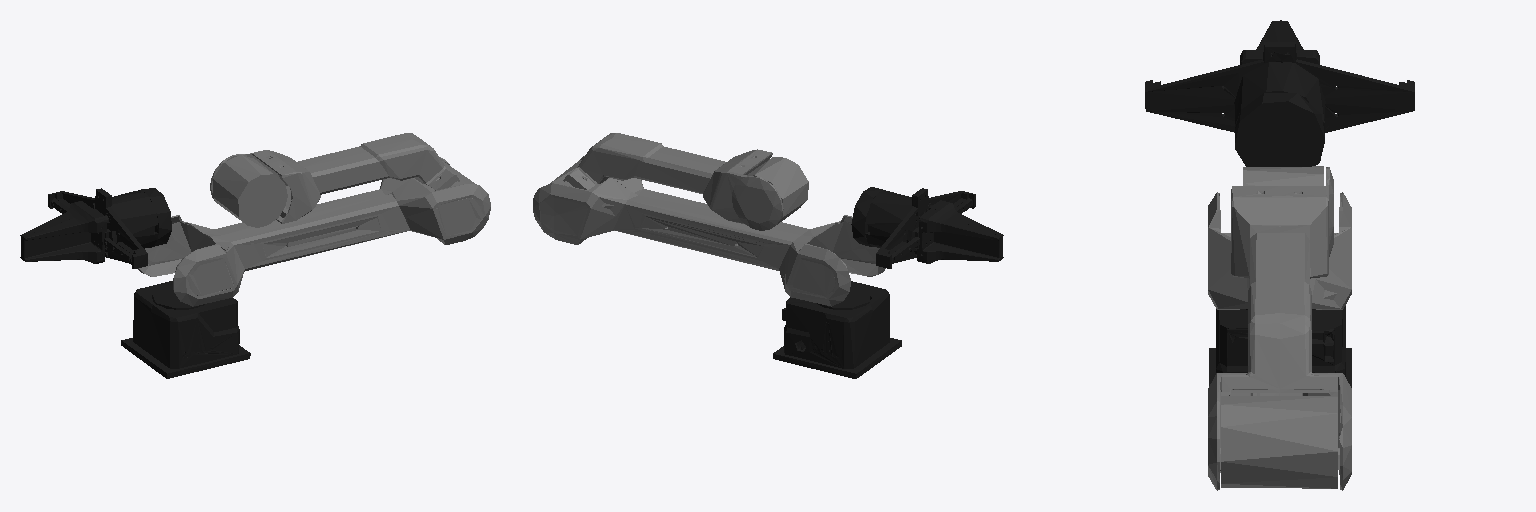
The robot description file, URDF, robot "fangzhenjixiebi":
<?xml version="1.0" encoding="utf-8"?>
<robot name="fangzhenjixiebi">

  <material name="white">
    <color rgba="0.5 0.5 0.5 1"/>
  </material>
  <material name="black">
    <color rgba="0.15 0.15 0.15 1"/>
  </material>

  <link name="base_link">
    <visual>
      <origin xyz="0 0 0" rpy="0 0 0"/>
      <geometry>
        <mesh filename="../meshes/base_link.STL"/>
      </geometry>
      <material name="black"/>
    </visual>
    <collision>
      <origin xyz="0 0 0" rpy="0 0 0"/>
      <geometry>
        <mesh filename="../meshes/base_link.STL"/>
      </geometry>
    </collision>
  </link>

  <joint name="1joint" type="revolute">
    <origin xyz="0 0 0" rpy="0 0 0"/>
    <parent link="base_link"/>
    <child link="1_Link"/>
    <axis xyz="0 0 1"/>
    <limit lower="-2.967" upper="2.967" effort="9" velocity="10.0"/>
  </joint>

  <link name="1_Link">
    <inertial>
      <origin xyz="0 0.000005 0.0590654" rpy="1.5708 0 0"/>
      <mass value="0.240435"/>
      <inertia ixx="0.000186308" ixy="0" ixz="0" iyy="0.000164031" iyz="0" izz="0.000128092"/>
    </inertial>
    <visual>
      <origin xyz="0 0 0" rpy="0 0 0"/>
      <geometry>
        <mesh filename="../meshes/1_Link.STL"/>
      </geometry>
      <material name="black"/>
    </visual>
    <collision>
      <origin xyz="0 0 0" rpy="0 0 0"/>
      <geometry>
        <mesh filename="../meshes/1_Link.STL"/>
      </geometry>
    </collision>
  </link>

  <joint name="2joint" type="revolute">
    <origin xyz="0 0 0.065224" rpy="1.5708 0 0"/>
    <parent link="1_Link"/>
    <child link="2_Link"/>
    <axis xyz="0 0 1"/>
    <limit lower="0" upper="3.14" effort="9" velocity="10.0"/>
  </joint>

  <link name="2_Link">
    <inertial>
      <origin xyz="0.251877 -0.0121583 0.000522957" rpy="1.57 0 1.57"/>
      <mass value="0.27896"/>
      <inertia ixx="0.00101012" ixy="0" ixz="0" iyy="0.000968578" iyz="0" izz="0.00016357"/>
    </inertial>
    <visual>
      <origin xyz="0 0.012094 0" rpy="0 0 0"/>
      <geometry>
        <mesh filename="../meshes/2_Link.STL"/>
      </geometry>
      <material name="white"/>
    </visual>
    <collision>
      <origin xyz="0 0.012094 0" rpy="0 0 0"/>
      <geometry>
        <mesh filename="../meshes/2_Link.STL"/>
      </geometry>
    </collision>
  </link>

  <joint name="3joint" type="revolute">
    <origin xyz="0.3 0 0.0005" rpy="0 0 1.5708"/>
    <parent link="2_Link"/>
    <child link="3_Link"/>
    <axis xyz="0 0 -1"/>
    <limit lower="0" upper="3.14" effort="9" velocity="10.0"/>
  </joint>

  <link name="3_Link">
    <inertial>
      <origin xyz="0.0566283 0.190562 -0.00330663" rpy="-0.6 -1.37 1.6"/>
      <mass value="0.196496"/>
      <inertia ixx="0.000365387" ixy="0" ixz="0" iyy="0.000357218" iyz="0" izz="7.49679e-05"/>
    </inertial>
    <visual>
      <origin xyz="0 0 0" rpy="0 0 0"/>
      <geometry>
        <mesh filename="../meshes/3_Link.STL"/>
      </geometry>
      <material name="white"/>
    </visual>
    <collision>
      <origin xyz="0 0 0" rpy="0 0 0"/>
      <geometry>
        <mesh filename="../meshes/3_Link.STL"/>
      </geometry>
    </collision>
  </link>

  <joint name="4joint" type="revolute">
    <origin xyz="0.057369 0.22028 -0.000495" rpy="0 0 1.5708"/>
    <parent link="3_Link"/>
    <child link="4_Link"/>
    <axis xyz="0 0 1"/>
    <limit lower="-1.57" upper="1.518" effort="3" velocity="10.0"/>
  </joint>

  <link name="4_Link">
    <inertial>
      <origin xyz="0.0683668 -0.0480245 0.00305266" rpy="1.95 0.52 0.82"/>
      <mass value="0.157398"/>
      <inertia ixx="0.000221164" ixy="0" ixz="0" iyy="0.000219057" iyz="0" izz="6.08582e-05"/>
    </inertial>
    <visual>
      <origin xyz="0 0 0" rpy="0 0 0"/>
      <geometry>
        <mesh filename="../meshes/4_Link.STL"/>
      </geometry>
      <material name="black"/>
    </visual>
    <collision>
      <origin xyz="0 0 0" rpy="0 0 0"/>
      <geometry>
        <mesh filename="../meshes/4_Link.STL"/>
      </geometry>
    </collision>
  </link>

  <joint name="5joint" type="revolute">
    <origin xyz="0.080666 -0.05857 0.00047555" rpy="-1.5708 0 0"/>
    <parent link="4_Link"/>
    <child link="5_Link"/>
    <axis xyz="0 0 1"/>
    <limit lower="-1.57" upper="1.57" effort="3" velocity="10.0"/>
  </joint>

  <link name="5_Link">
    <inertial>
      <origin xyz="0.00107781 9.47221e-11 0.0546028" rpy="0 0.09 0"/>
      <mass value="0.148471"/>
      <inertia ixx="7.23521e-05" ixy="0" ixz="0" iyy="7.08257e-05" iyz="0" izz="6.2135e-05"/>
    </inertial>
    <visual>
      <origin xyz="0 0 0" rpy="0 0 0"/>
      <geometry>
        <mesh filename="../meshes/5_Link.STL"/>
      </geometry>
      <material name="black"/>
    </visual>
    <collision>
      <origin xyz="0 0 0" rpy="0 0 0"/>
      <geometry>
        <mesh filename="../meshes/5_Link.STL"/>
      </geometry>
    </collision>
  </link>

  <joint name="6joint" type="revolute">
    <origin xyz="0 0 0.059088" rpy="1.5708 0 1.5708"/>
    <parent link="5_Link"/>
    <child link="6_Link"/>
    <axis xyz="0 0 1"/>
    <limit lower="-1.57" upper="1.57" effort="3" velocity="10.0"/>
  </joint>

  <link name="6_Link">
    <inertial>
      <origin xyz="-2.83638e-08 -0.00995222 0.0624149" rpy="1.57 0 1.57"/>
      <mass value="0.191166"/>
      <inertia ixx="0.000155312" ixy="0" ixz="0" iyy="0.000139085" iyz="0" izz="5.70486e-05"/>
    </inertial>
    <visual>
      <origin xyz="0 0.0095 0" rpy="0 0 0"/>
      <geometry>
        <mesh filename="../meshes/6_Link.STL"/>
      </geometry>
      <material name="black"/>
    </visual>
    <collision>
      <origin xyz="0 0.0095 0" rpy="0 0 0"/>
      <geometry>
        <mesh filename="../meshes/6_Link.STL"/>
      </geometry>
    </collision>
  </link>

  <joint name="8joint" type="prismatic">
    <origin xyz="0.0038 0.006 0.173039" rpy="0 0 0"/>
    <parent link="6_Link"/>
    <child link="7_Link"/>
    <axis xyz="1 0 0"/>
    <limit lower="0" upper="0.05" effort="3" velocity="10.0"/>
  </joint>

  <link name="7_Link">
    <inertial>
      <origin xyz="0 0.01 -0.0311021" rpy="0 0 0.1366"/>
      <mass value="0.0763456"/>
      <inertia ixx="2.79204e-05" ixy="0" ixz="0" iyy="2.01434e-05" iyz="0" izz="1.69657e-05"/>
    </inertial>
    <visual>
      <origin xyz="0.01 0.01 -0.08" rpy="0 0 0"/>
      <geometry>
        <mesh filename="../meshes/9_1_Link.STL"/>
      </geometry>
      <material name="black"/>
    </visual>
    <collision>
      <origin xyz="0 0.01 -0.08" rpy="0 0 0"/>
      <geometry>
        <mesh filename="../meshes/9_1_Link.STL"/>
      </geometry>
    </collision>
  </link>

  <joint name="7joint" type="prismatic">
    <origin xyz="-0.0038 -0.016 0.173039" rpy="0 0 0"/>
    <parent link="6_Link"/>
    <child link="8_Link"/>
    <axis xyz="-1 0 0"/>
    <limit lower="0" upper="0.05" effort="3" velocity="10.0"/>
  </joint>

  <link name="8_Link">
    <inertial>
      <origin xyz="-0.01 0 -0.0311021" rpy="0 0 0.1366"/>
      <mass value="0.0763456"/>
      <inertia ixx="2.79204e-05" ixy="0" ixz="0" iyy="2.01434e-05" iyz="0" izz="1.69657e-05"/>
    </inertial>
    <visual>
      <origin xyz="-0.01 0 -0.08" rpy="0 0 0"/>
      <geometry>
        <mesh filename="../meshes/9_2_Link.STL"/>
      </geometry>
      <material name="black"/>
    </visual>
    <collision>
      <origin xyz="-0.01 0 -0.08" rpy="0 0 0"/>
      <geometry>
        <mesh filename="../meshes/9_2_Link.STL"/>
      </geometry>
    </collision>
  </link>

</robot>

--- What the picture shows (computed from the rendered views, not written in the file) ---
Views: 3 orthographic renders of the robot side by side, from view 1: azimuth 30°, elevation 25°; view 2: azimuth 150°, elevation 25°; view 3: azimuth 270°, elevation 25°.
Model fangzhenjixiebi with 9 links and 8 joints (6 revolute, 2 prismatic), rooted at base_link, posed all joints at 0.
Links seen in each view (by area): view 1: 2_Link, 3_Link, base_link, 6_Link, 8_Link, 7_Link; view 2: 2_Link, 3_Link, base_link, 6_Link, 7_Link, 8_Link; view 3: 2_Link, 3_Link, 6_Link, base_link, 7_Link, 8_Link.
Boxes of the visible links, x1,y1,x2,y2 form: 2_Link: [138, 157, 490, 306]; 3_Link: [210, 133, 459, 227]; base_link: [121, 281, 250, 378]; 6_Link: [48, 188, 171, 268]; 8_Link: [23, 208, 110, 263]; 7_Link: [20, 201, 92, 259]; 2_Link: [533, 156, 885, 306]; 3_Link: [563, 133, 808, 230]; base_link: [773, 281, 901, 378]; 6_Link: [851, 187, 975, 268]; 7_Link: [913, 209, 1000, 263]; 8_Link: [926, 200, 1003, 259]; 2_Link: [1208, 192, 1351, 490]; 3_Link: [1221, 166, 1337, 395]; 6_Link: [1145, 42, 1414, 166]; base_link: [1209, 306, 1351, 387]; 7_Link: [1280, 20, 1319, 64]; 8_Link: [1240, 21, 1279, 64].
Size in the robot's own frame: 0.5104 by 0.1696 by 0.1957 metres.
Meshes: 9 distinct files referenced, 6 mesh visuals loaded (6 binary STL); not drawn: 3 (reference not matched to a file when rendering).
